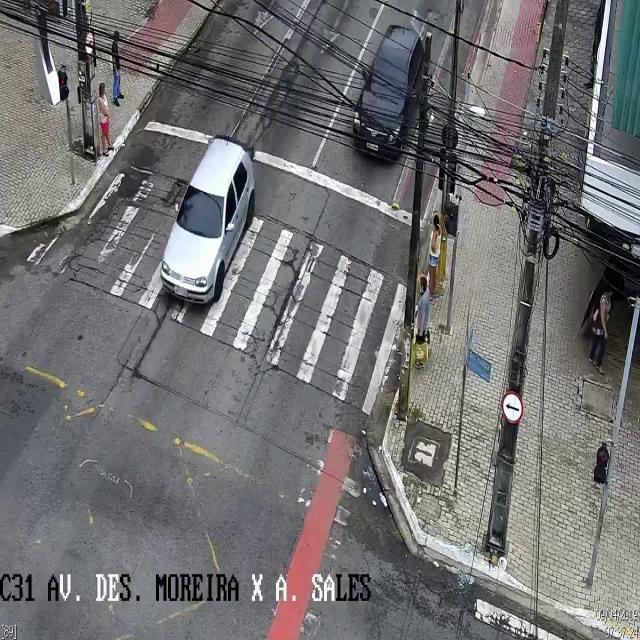Car: (160, 137, 254, 305), (353, 25, 423, 159)
